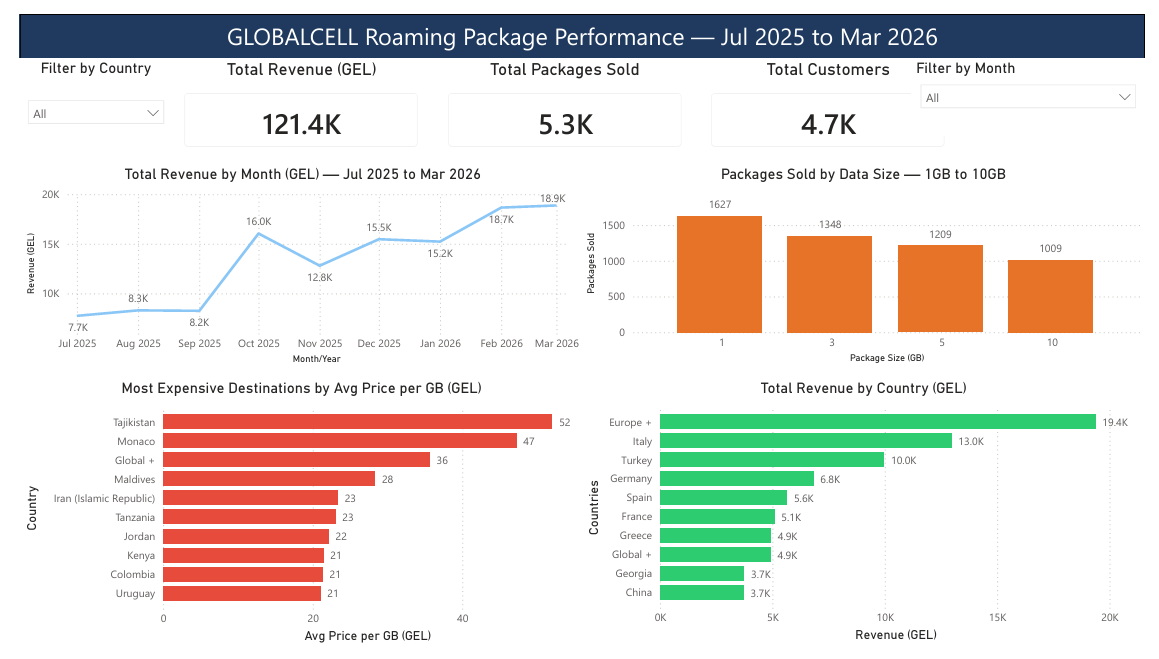

What the dashboard file says about the page in this screenshot:
{"tool":"powerbi","page":{"name":"Page 1","canvas":[1280,720],"ordinal":0},"visuals":[{"type":"lineChart","title":"Total Revenue by Month (GEL) — Jul 2025 to Mar 2026","fields":{"Y":["Sum(Sheet1.Revenue)"],"Category":["Sheet1.Date.Variation.Date Hierarchy.Year","Sheet1.Date.Variation.Date Hierarchy.Month"]},"box":[2.7,171.6,638.8,231.5],"z":0},{"type":"clusteredBarChart","title":"Total Revenue by Country (GEL)","fields":{"Category":["Sheet1.Package_Nme"],"Y":["Sum(Sheet1.Revenue)"]},"box":[639.5,414.5,640.8,304.5],"z":1000},{"type":"clusteredColumnChart","title":"Packages Sold by Data Size — 1GB to 10GB","fields":{"Y":["Sum(Sheet1.sold package)"],"Category":["Sheet1.GB"]},"box":[640.1,171.6,640.1,230.2],"z":2000},{"type":"clusteredBarChart","title":"Most Expensive Destinations by Avg Price per GB (GEL)","fields":{"Category":["Sheet1.Package_Nme"],"Y":["Avg(Sheet1.Price per GB)"]},"box":[1.2,414.5,639.5,305.7],"z":3000},{"type":"textbox","box":[1.4,0,1278.9,51.8],"z":4000},{"type":"cardVisual","title":"Total Revenue (GEL)","fields":{"Data":["Sheet1.Revenue Label"]},"box":[171.2,51.2,300,117.5],"z":5000},{"type":"cardVisual","title":"Total Packages Sold","fields":{"Data":["Sheet1.Packages Sold Label"]},"box":[470.8,51.4,299.6,117.4],"z":6000},{"type":"cardVisual","title":"Total Customers","fields":{"Data":["Sheet1.Customers Label"]},"box":[770.4,51.4,299.6,117.4],"z":7000},{"type":"slicer","title":"Filter by Month","fields":{"Values":["Sheet1.Date"]},"box":[1015,51.4,265.4,88],"z":8000},{"type":"slicer","title":"Filter by Country","fields":{"Values":["Sheet1.Package_Nme"]},"box":[0,51.2,175,87.5],"z":9000}]}

Visuals, with their boxes in screenshot pixels (x1, y1, x2, y2), scaled from the page's 1280x720 canvas onto the 1159x659 screenshot:
"Total Revenue by Month (GEL) — Jul 2025 to Mar 2026" lineChart: (2, 157, 581, 369)
"Total Revenue by Country (GEL)" clusteredBarChart: (579, 379, 1158, 658)
"Packages Sold by Data Size — 1GB to 10GB" clusteredColumnChart: (580, 157, 1158, 368)
"Most Expensive Destinations by Avg Price per GB (GEL)" clusteredBarChart: (1, 379, 580, 658)
textbox: (1, 0, 1158, 47)
"Total Revenue (GEL)" cardVisual: (155, 47, 427, 154)
"Total Packages Sold" cardVisual: (426, 47, 698, 154)
"Total Customers" cardVisual: (698, 47, 969, 154)
"Filter by Month" slicer: (919, 47, 1158, 128)
"Filter by Country" slicer: (0, 47, 158, 127)
